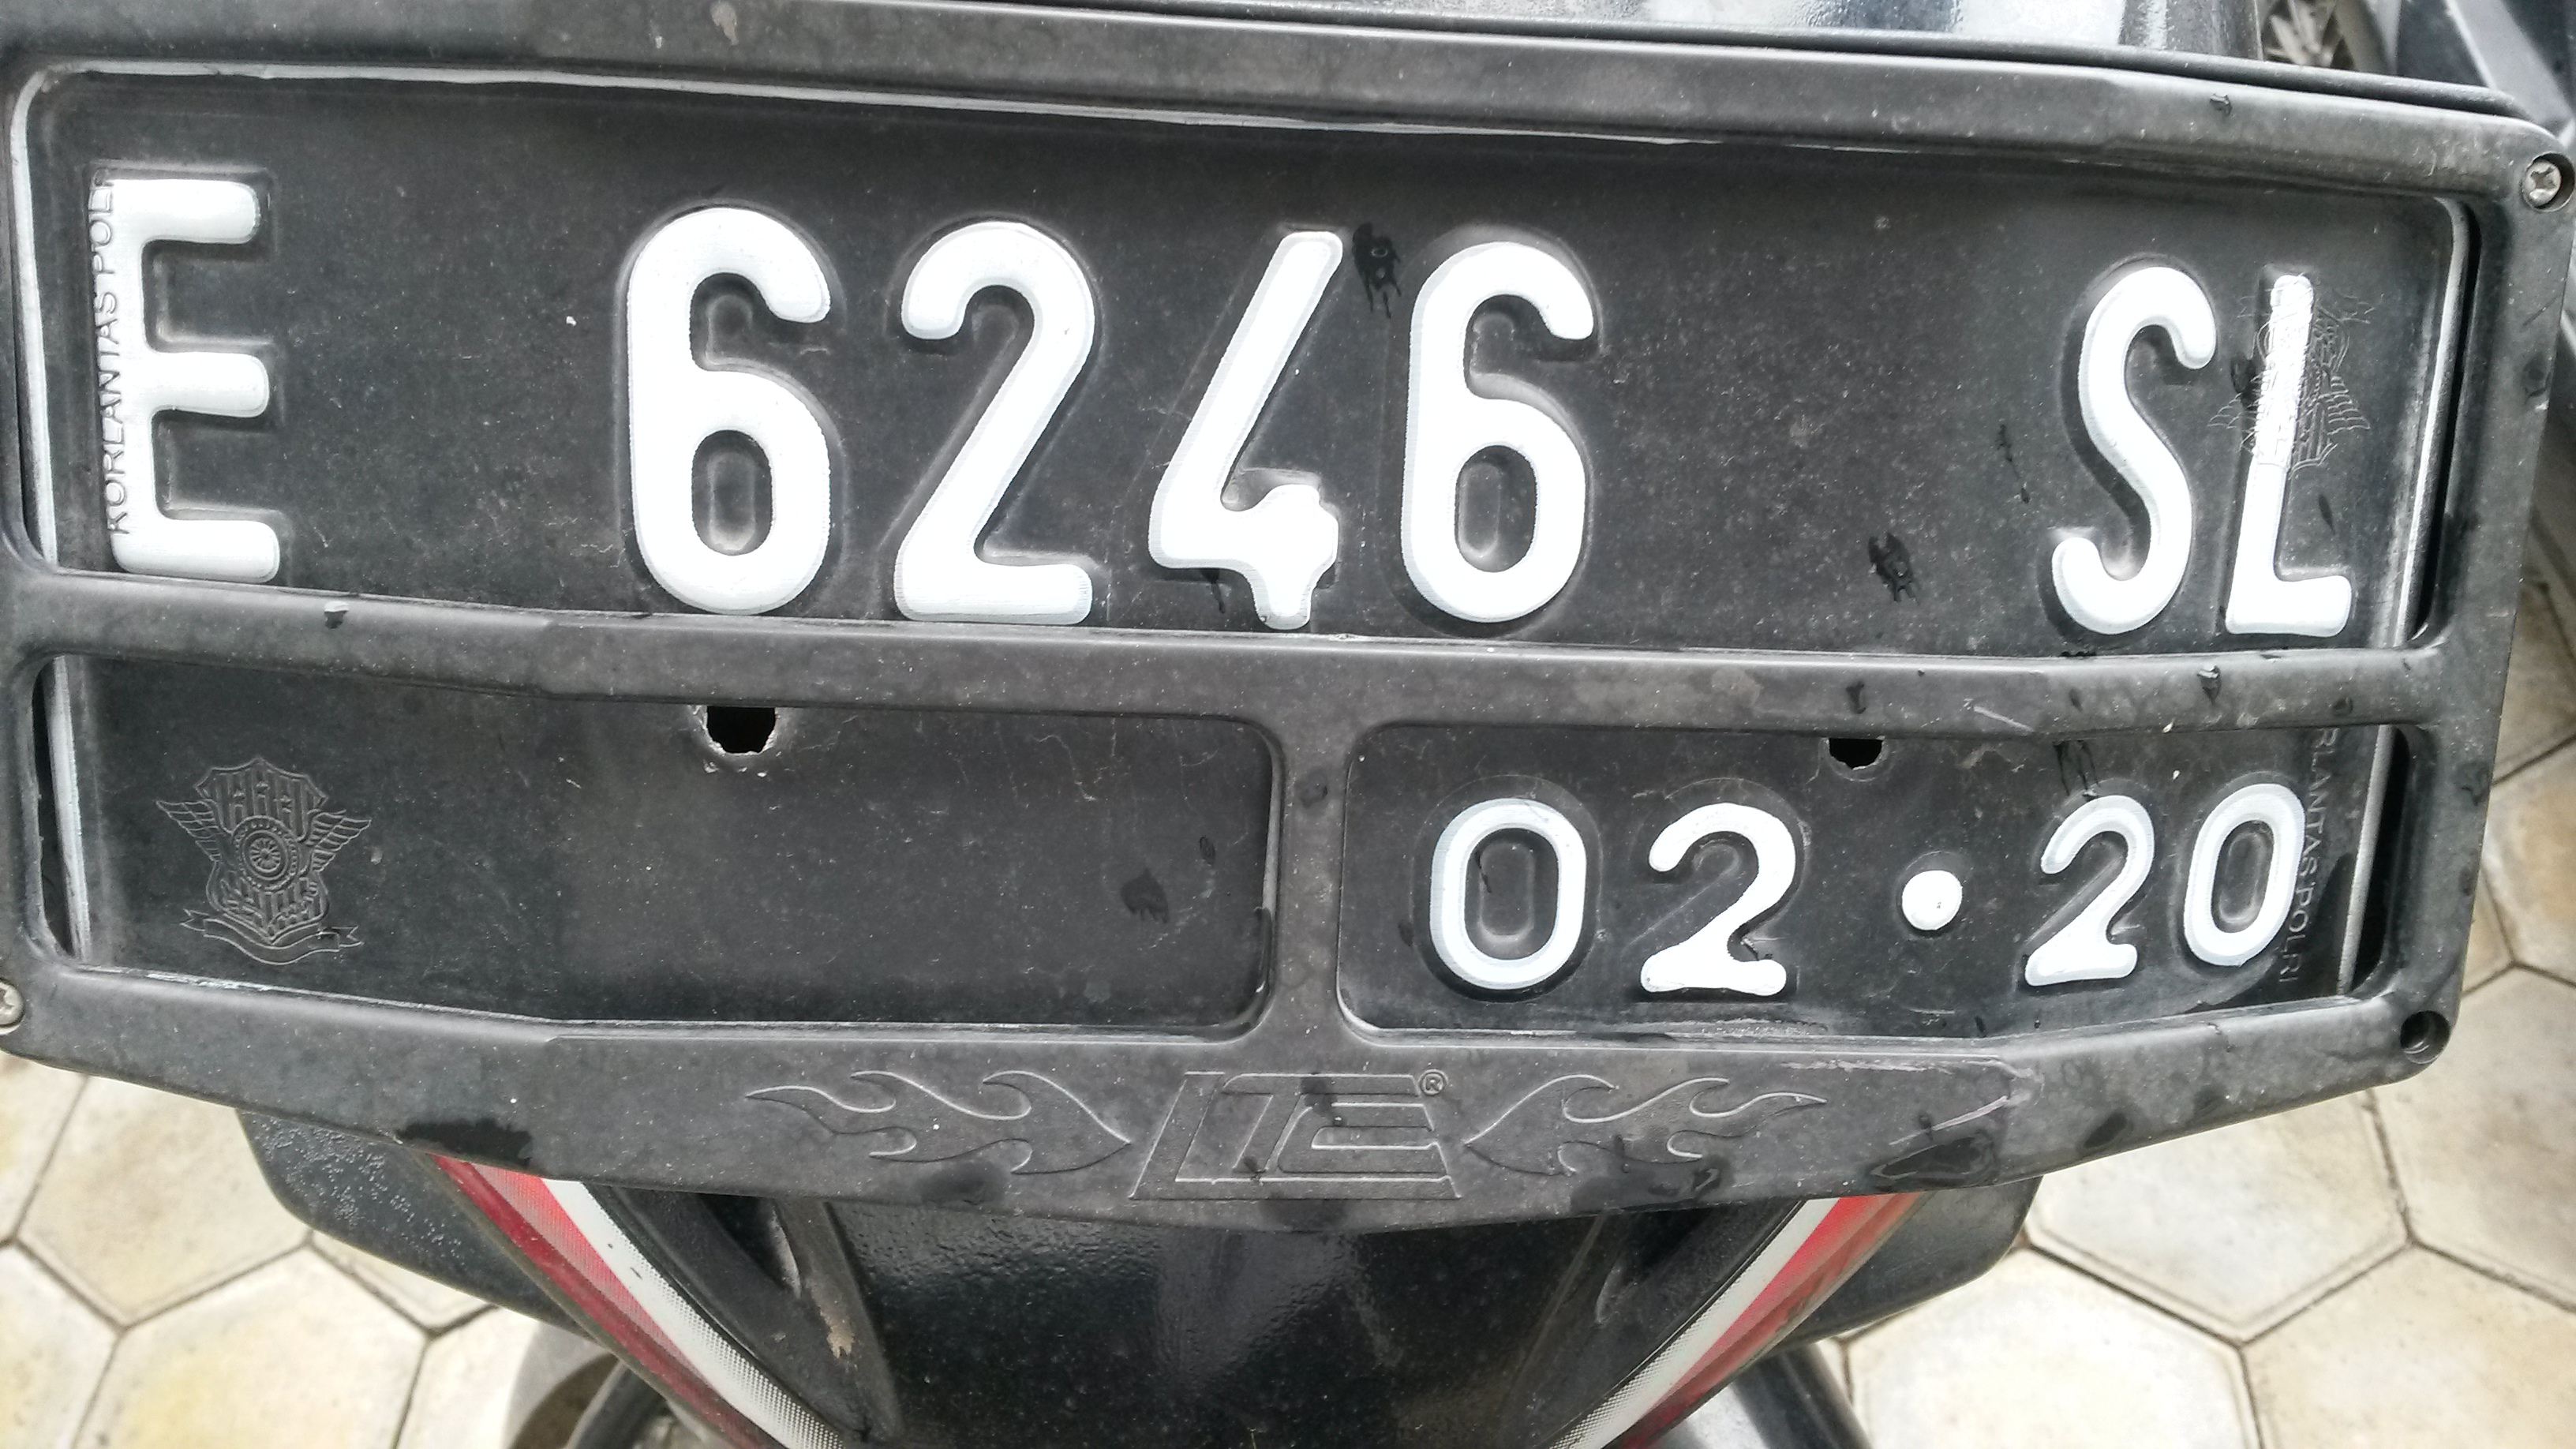plate: (11, 54, 2481, 1048)
